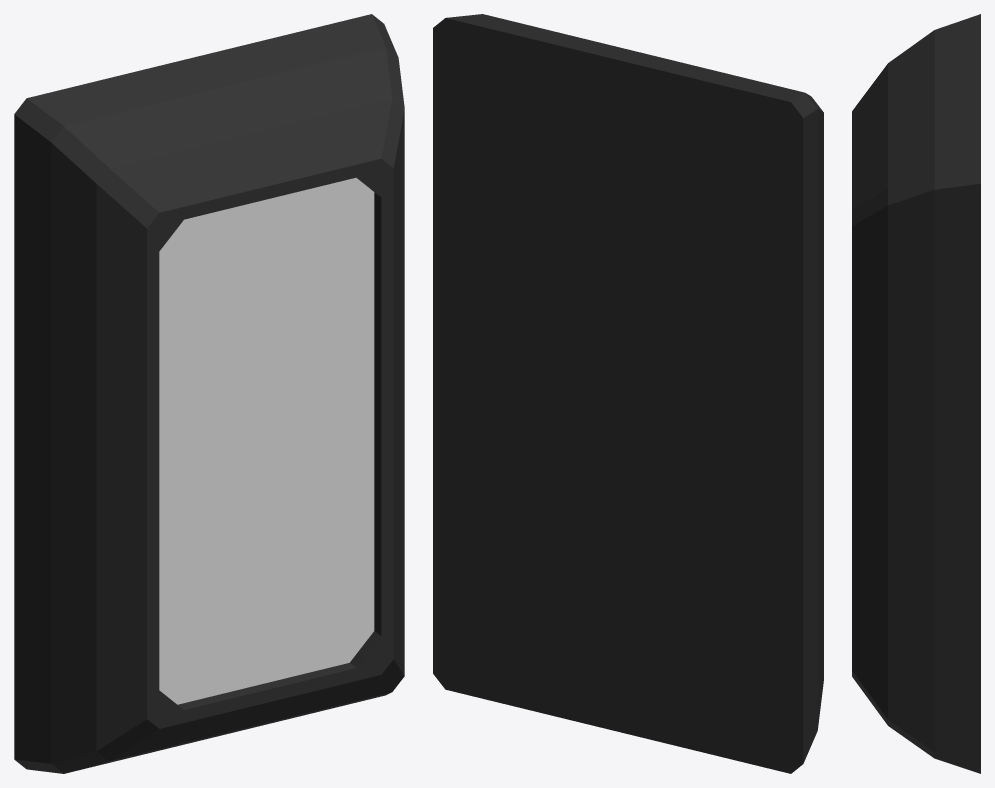
File: Button.fbx
The picture shows the model from 3 angles, left to right: view 1: azimuth 30°, elevation 25°; view 2: azimuth 150°, elevation 25°; view 3: azimuth 270°, elevation 25°; orthographic projection. The views are drawn at different scales.
Visible parts, largest first — view 1: Button; view 2: Button; view 3: Button.
Part boxes in pixels (x1,y1,x2,y2): Button: (14,14,404,773); Button: (433,14,823,773); Button: (852,14,980,773).
Bounding box in the file's own units: 30 × 52 × 10.
